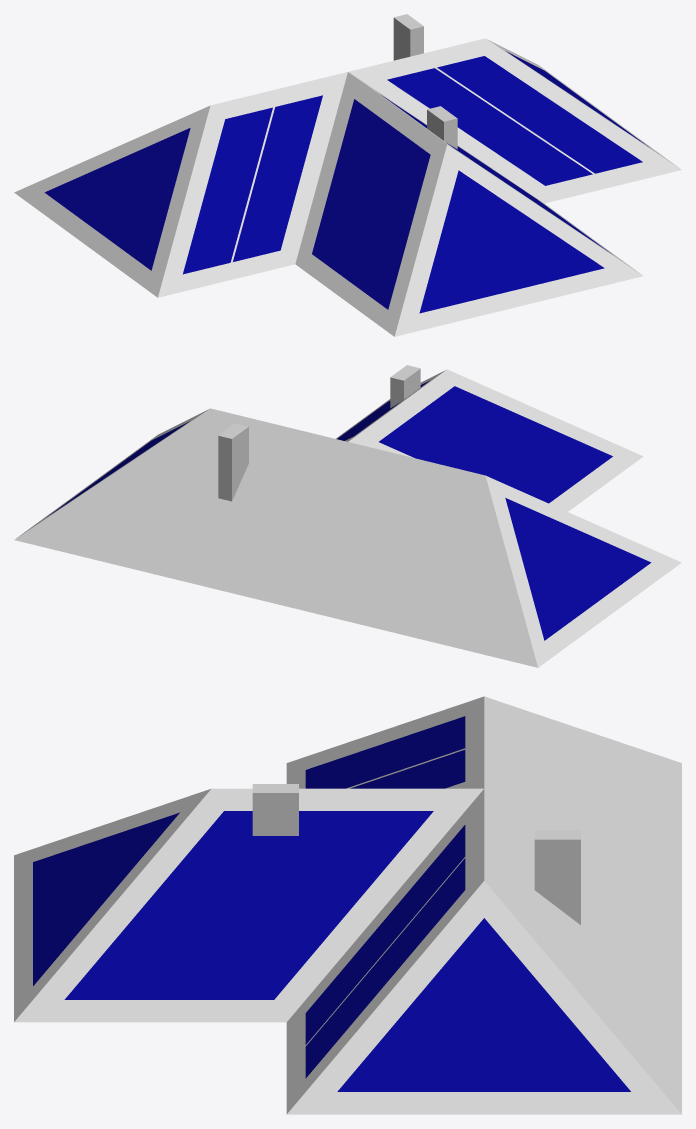
Rendered from Roof5.dae.
The picture shows the model from 3 angles, top to bottom: view 1: azimuth 30°, elevation 25°; view 2: azimuth 150°, elevation 25°; view 3: azimuth 270°, elevation 25°; orthographic projection. The views are drawn at different scales.
Parts seen in each view (by area): view 1: SketchUp (×12); view 2: SketchUp (×7); view 3: SketchUp (×10).
Boxes of the visible parts, left/top/right/bottom form: SketchUp (×12): left=14, top=14, right=681, bottom=336; SketchUp (×7): left=14, top=365, right=681, bottom=667; SketchUp (×10): left=14, top=696, right=681, bottom=1114.
Size of the model in its own units: 1201 by 965 by 259.
